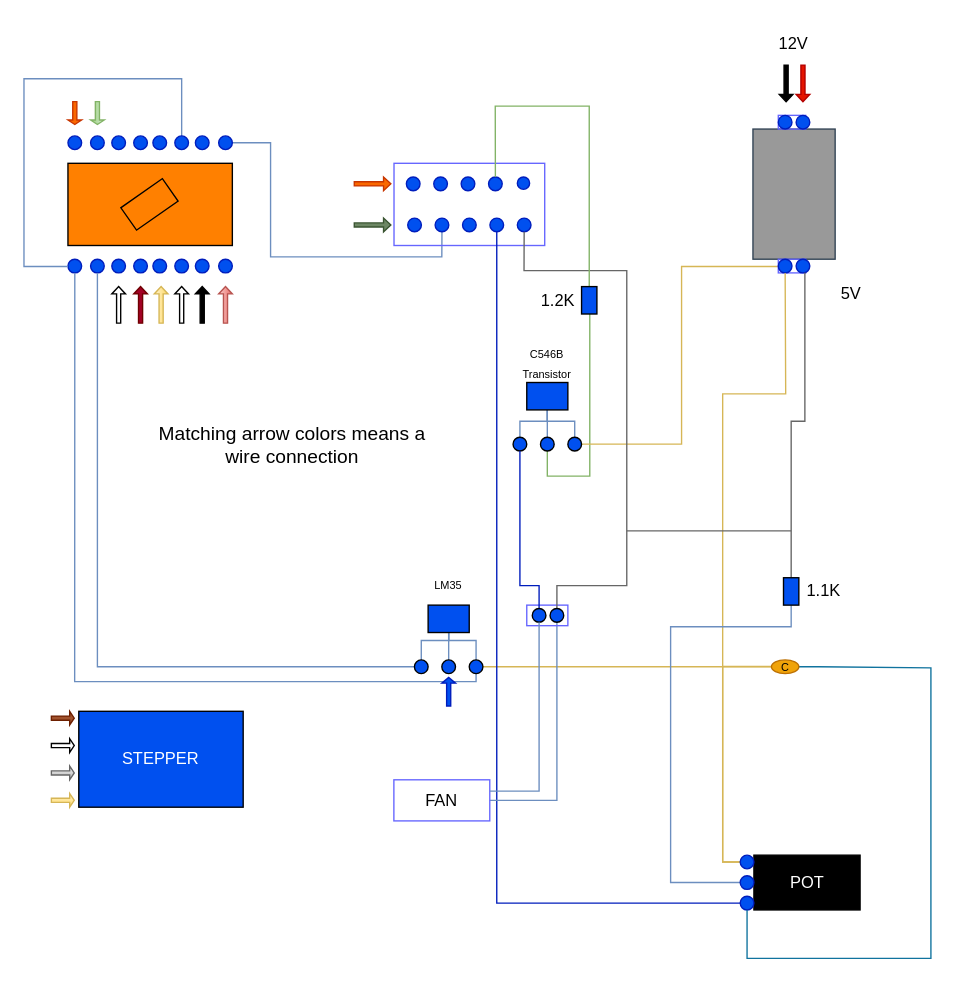
Image size: 956x984. Some labels were removed from this diagram. The shapes that lost their labels are listed below. From the top down, each one's box as (x1, y1, x2, y2) in pixels, then its label:
(67, 162, 232, 246): STEP Driver
(752, 128, 835, 259): VOLTAGE REGULATOR
